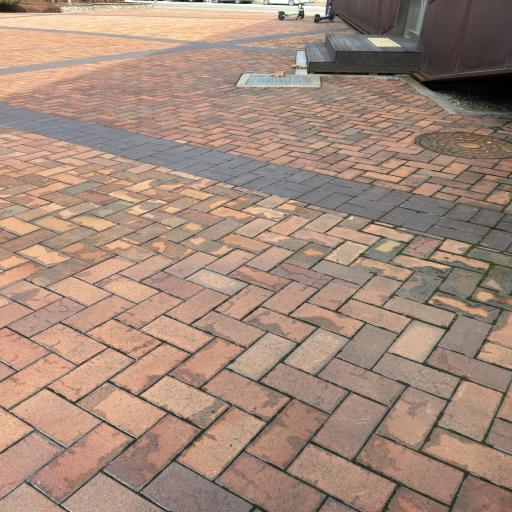debris: (271, 71, 285, 77)
drain: (235, 74, 320, 87)
